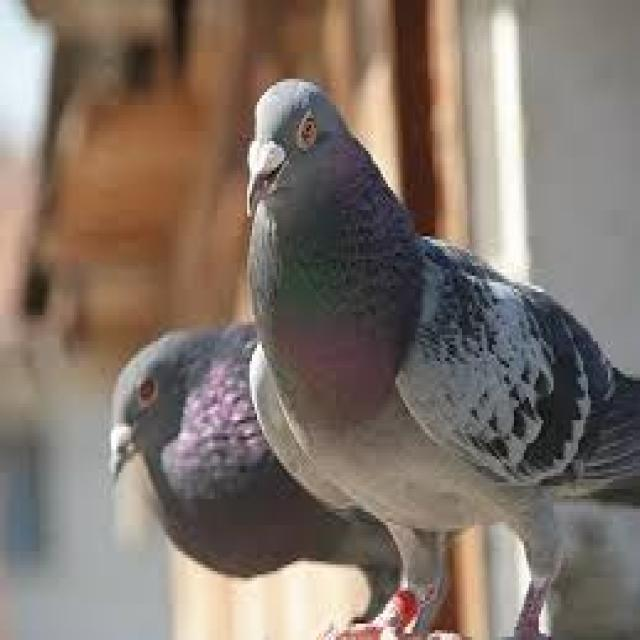pigeon: (234, 59, 640, 636)
